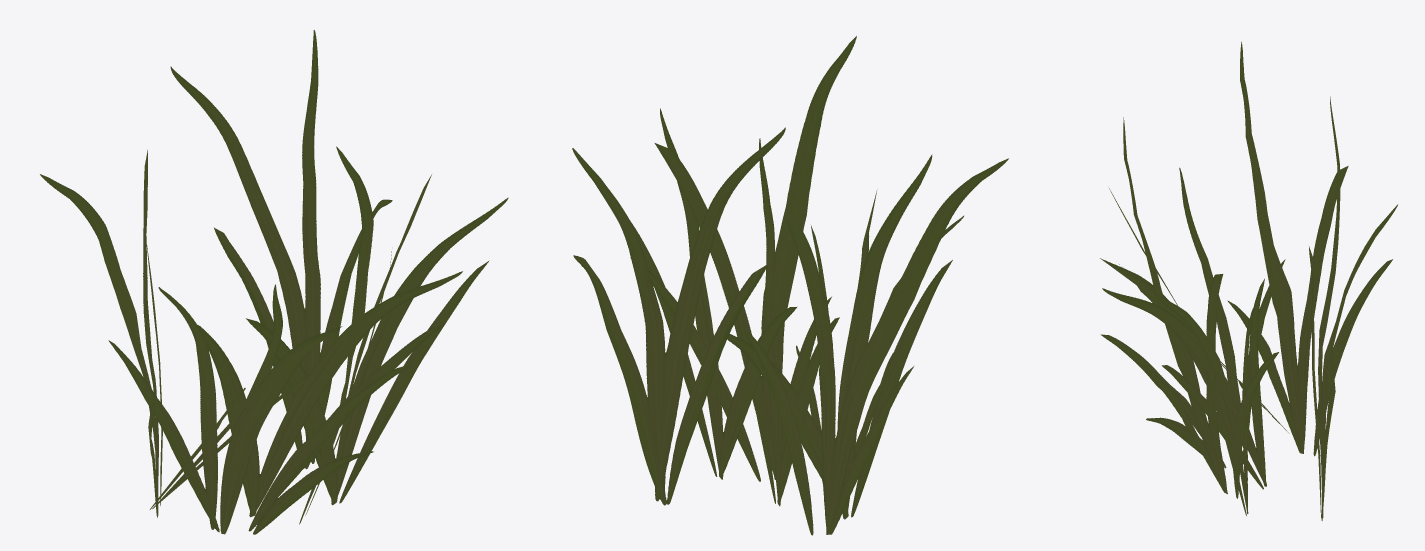
Rendered from MSH_fwOF_Grass_M_12.fbx.
The picture shows the model from 3 angles, left to right: view 1: azimuth 30°, elevation 25°; view 2: azimuth 150°, elevation 25°; view 3: azimuth 270°, elevation 25°; orthographic projection. The views are drawn at different scales.
Visible parts, largest first — view 1: MSH_fwOF_Grass_M_1; view 2: MSH_fwOF_Grass_M_1; view 3: MSH_fwOF_Grass_M_1.
Part boxes in pixels (box(x1,y1,x2,y2)): MSH_fwOF_Grass_M_1: box(40, 30, 508, 534); MSH_fwOF_Grass_M_1: box(572, 36, 1008, 535); MSH_fwOF_Grass_M_1: box(1100, 41, 1397, 520).
Bounding box in the file's own units: 0.3905 × 0.3703 × 0.2859.
